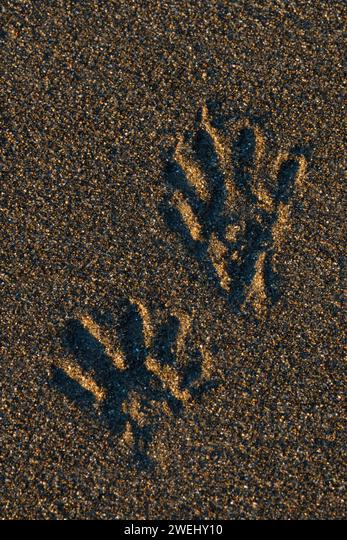raccoon: (139, 99, 325, 323), (36, 286, 216, 458)
